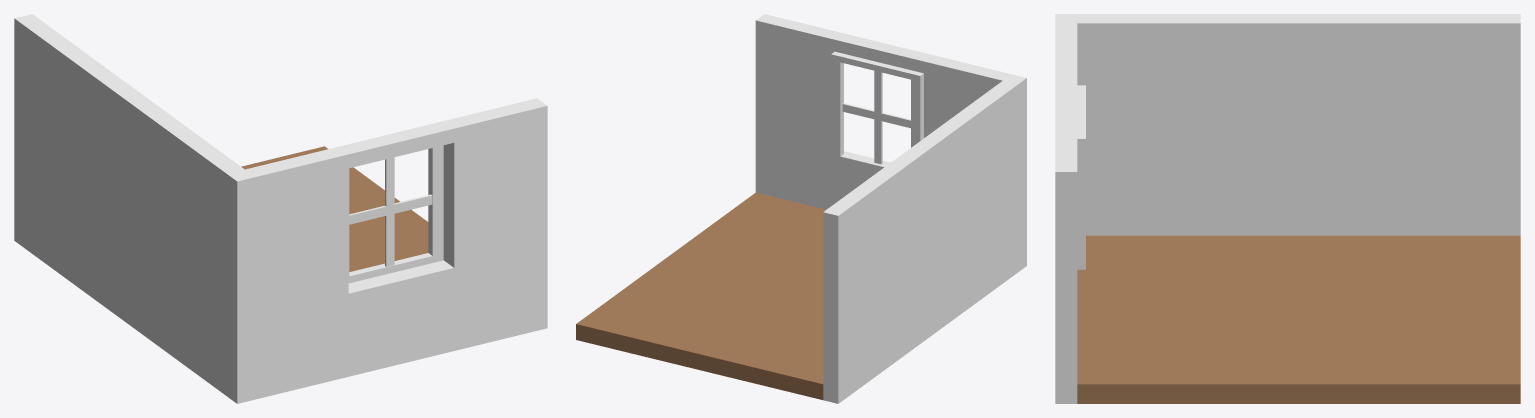
File: principal-office-wallsfloor.glb
The picture shows the model from 3 angles, left to right: view 1: azimuth 30°, elevation 25°; view 2: azimuth 150°, elevation 25°; view 3: azimuth 270°, elevation 25°; orthographic projection. The views are drawn at different scales.
Parts seen in each view (by area): view 1: PRINCIPALOFFICEwallsfloor; view 2: PRINCIPALOFFICEwallsfloor; view 3: PRINCIPALOFFICEwallsfloor.
Boxes of the visible parts, x1,y1,x2,y2 form: PRINCIPALOFFICEwallsfloor: (14, 14, 547, 403); PRINCIPALOFFICEwallsfloor: (576, 14, 1026, 403); PRINCIPALOFFICEwallsfloor: (1055, 14, 1520, 403).
Bounding box in the file's own units: 5.17 × 3.54 × 6.43.
Materials: 1 (1 with a texture image).
